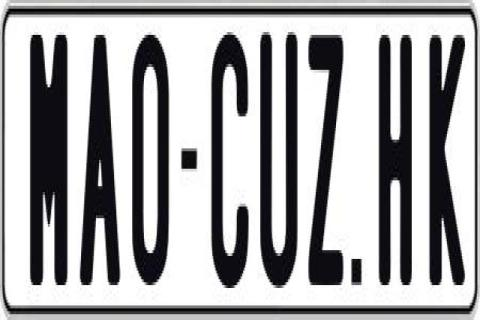0: (129, 26, 166, 282)
A: (80, 27, 120, 286)
C: (210, 29, 248, 291)
H: (378, 26, 412, 276)
K: (429, 29, 464, 279)
M: (30, 29, 70, 288)
U: (257, 24, 301, 294)
Z: (307, 29, 345, 282)
